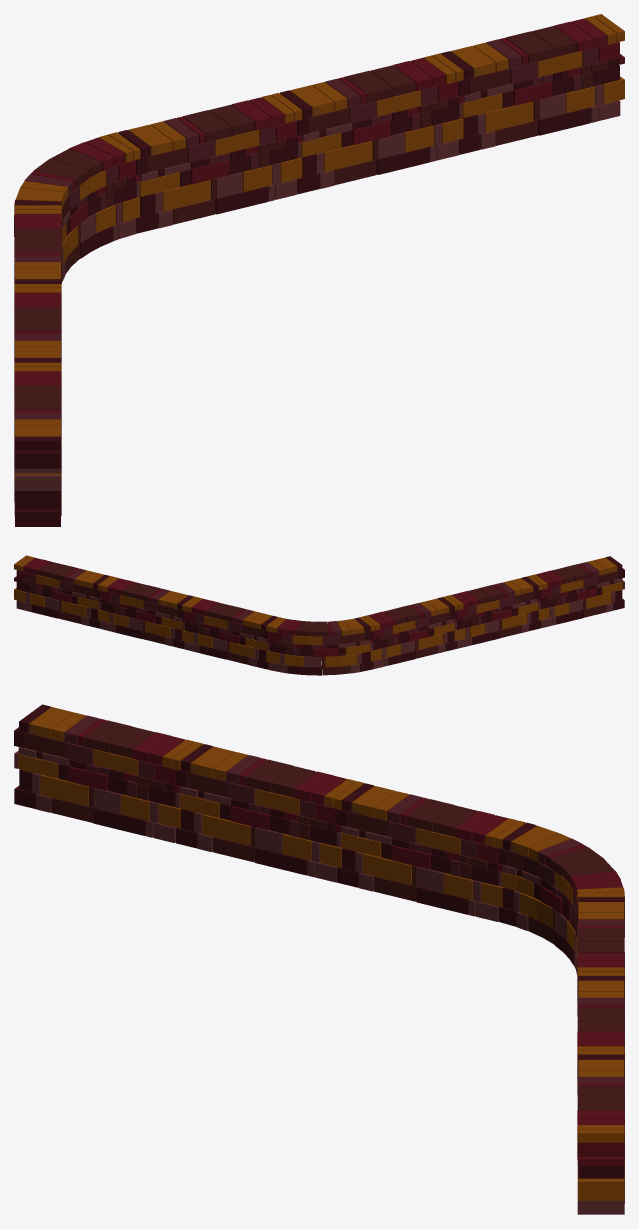
File: WallRed1.fbx
3 renders of one model, top to bottom at view 1: azimuth 30°, elevation 25°; view 2: azimuth 150°, elevation 25°; view 3: azimuth 270°, elevation 25°, orthographic. The views are drawn at different scales.
Visible parts, largest first — view 1: WallRed1; view 2: WallRed1; view 3: WallRed1.
Boxes of the visible parts, x1,y1,x2,y2 form: WallRed1: [14, 14, 624, 526]; WallRed1: [14, 555, 624, 675]; WallRed1: [14, 704, 624, 1214].
Bounding box in the file's own units: 109 × 9.9 × 65.55.
Materials: 1 (1 with a texture image).
